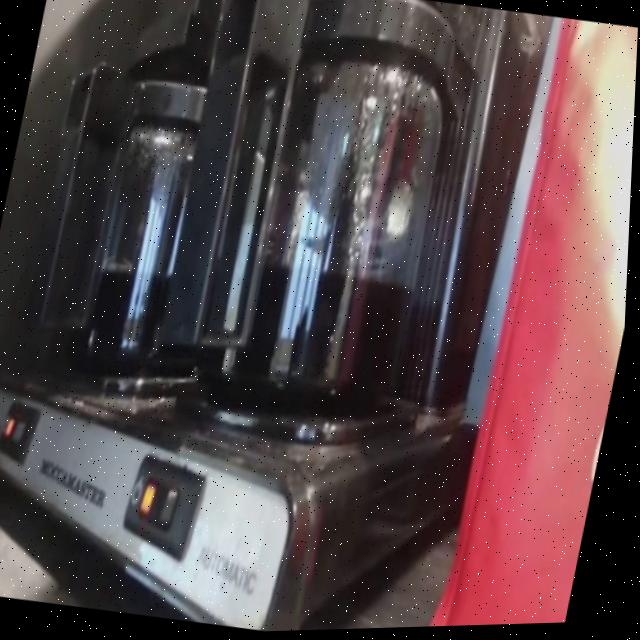coffee: (164, 0, 505, 441), (35, 40, 272, 416)
